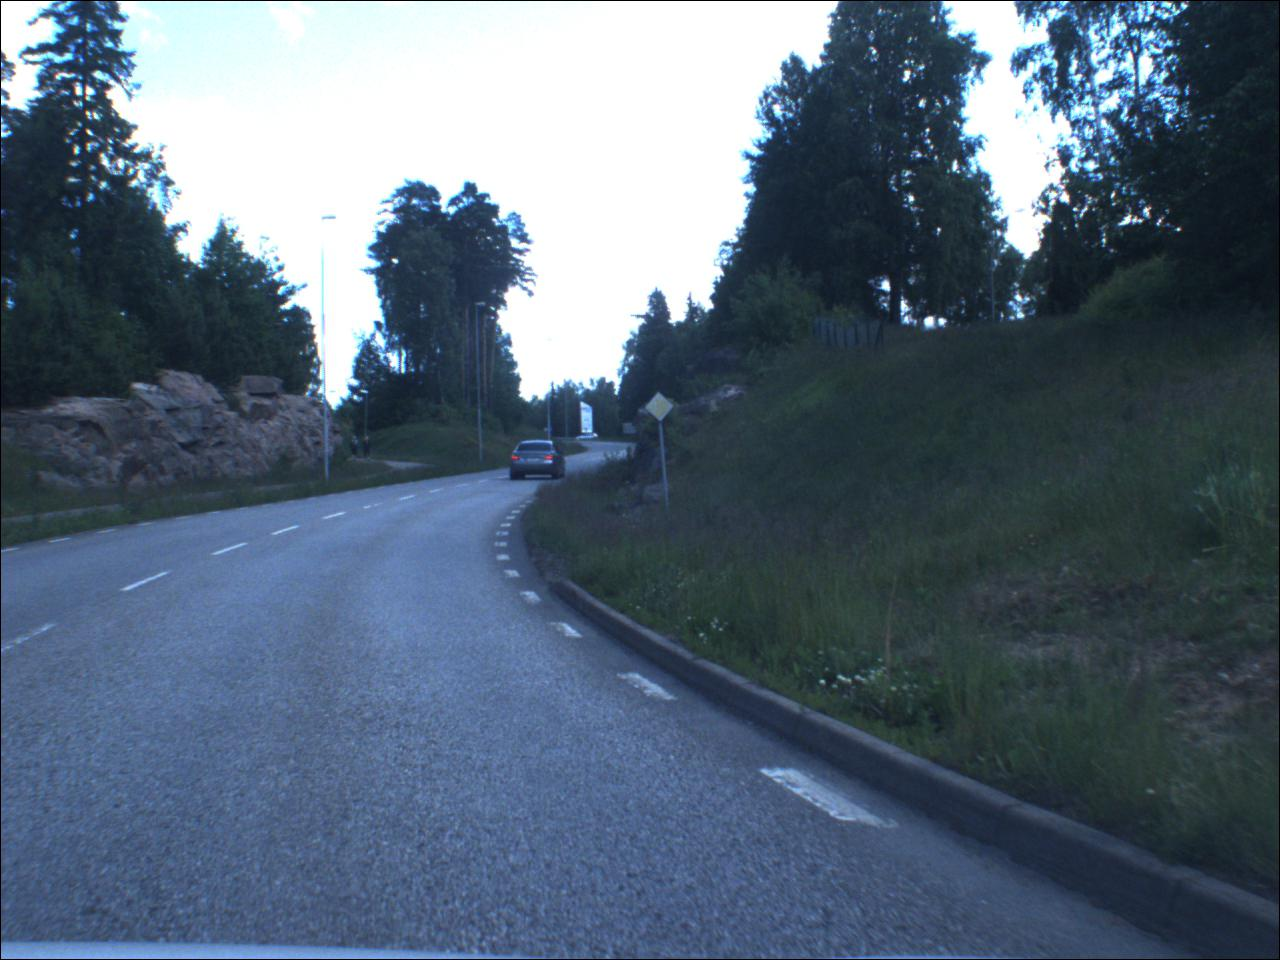PRIORITY_ROAD: (645, 393, 677, 424)
